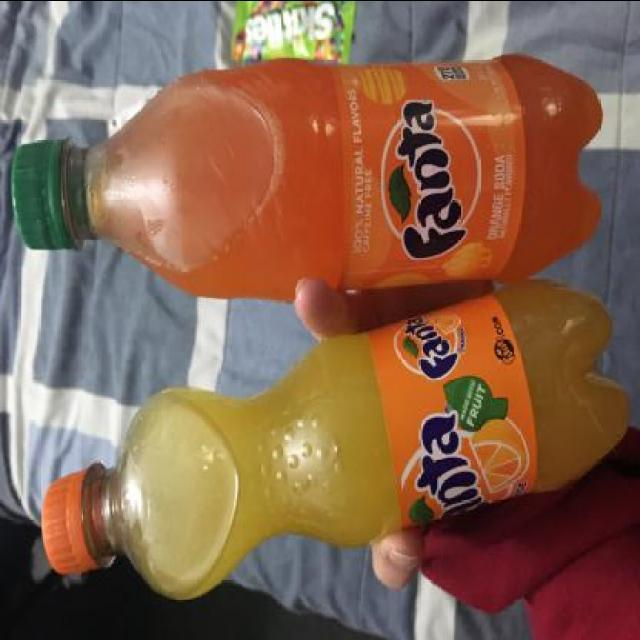Fanta: (42, 274, 628, 608), (9, 38, 608, 302)
